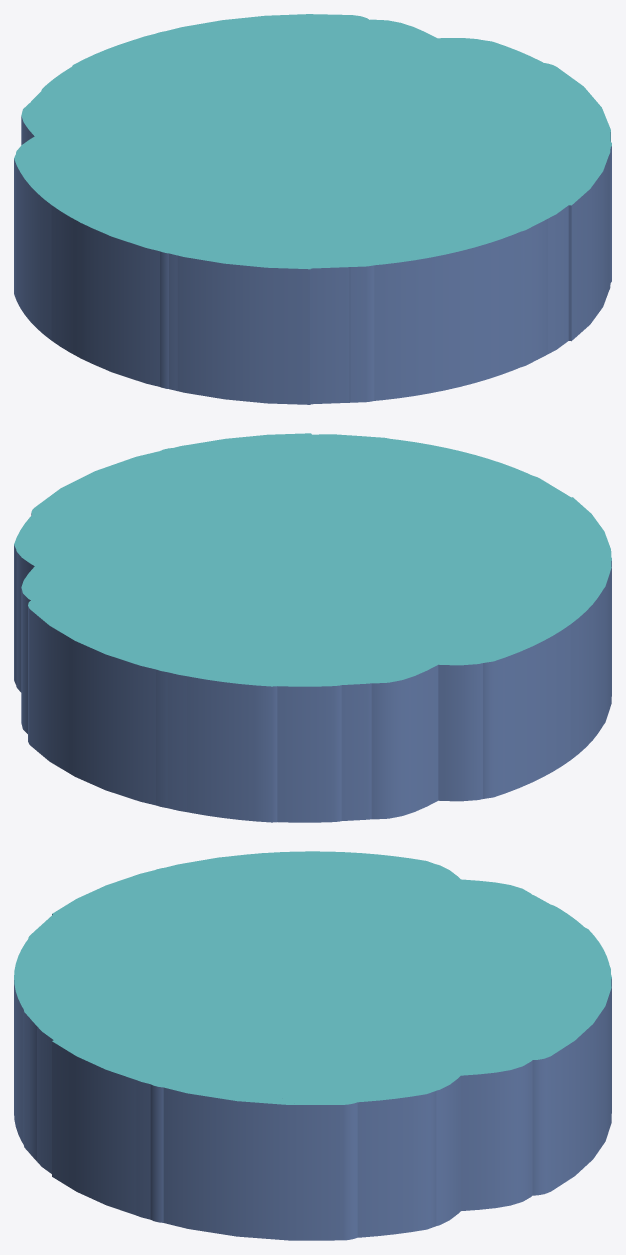
File: BaseModel.fbx
The picture shows the model from 3 angles, top to bottom: view 1: azimuth 30°, elevation 25°; view 2: azimuth 150°, elevation 25°; view 3: azimuth 270°, elevation 25°; orthographic projection.
Parts seen in each view (by area): view 1: Mside7, Mside1, san4, Mside3, san1, san6, Mside6, san5, san2, Mside2, Mside5, Mside4 (+1 smaller); view 2: Mside7, Mside6, Mside1, san5, Mside5, Mside3, Mside2, san2, san6, san3, san4, Mside4 (+1 smaller); view 3: Mside7, san5, san4, Mside5, Mside1, Mside6, Mside2, san6, san3, Mside4, Mside3, san2 (+1 smaller).
Part boxes in pixels (<box>): Mside7: <box>21,19,592,263</box>; Mside1: <box>14,16,606,402</box>; san4: <box>54,16,609,404</box>; Mside3: <box>28,21,596,254</box>; san1: <box>105,27,588,390</box>; san6: <box>25,20,608,404</box>; Mside6: <box>37,26,573,257</box>; san5: <box>41,14,610,290</box>; san2: <box>122,34,611,388</box>; Mside2: <box>16,17,596,266</box>; Mside5: <box>42,27,572,256</box>; Mside4: <box>14,17,546,266</box>; Mside7: <box>21,438,600,819</box>; Mside6: <box>40,445,585,676</box>; Mside1: <box>14,435,608,822</box>; san5: <box>28,434,603,822</box>; Mside5: <box>43,445,583,676</box>; Mside3: <box>36,439,591,681</box>; Mside2: <box>16,436,606,801</box>; san2: <box>114,448,611,696</box>; san6: <box>25,434,609,820</box>; san3: <box>91,448,572,807</box>; san4: <box>55,433,611,741</box>; Mside4: <box>27,436,586,686</box>; Mside7: <box>23,855,601,1210</box>; san5: <box>40,855,611,1240</box>; san4: <box>52,851,607,1215</box>; Mside5: <box>23,853,595,1102</box>; Mside1: <box>14,851,609,1237</box>; Mside6: <box>17,852,608,1102</box>; Mside2: <box>34,859,591,1225</box>; san6: <box>23,852,603,1173</box>; san3: <box>98,868,611,1113</box>; Mside4: <box>26,855,593,1098</box>; Mside3: <box>14,851,589,1103</box>; san2: <box>106,868,603,1222</box>.
Size of the model in its own units: 402 by 100 by 400.
